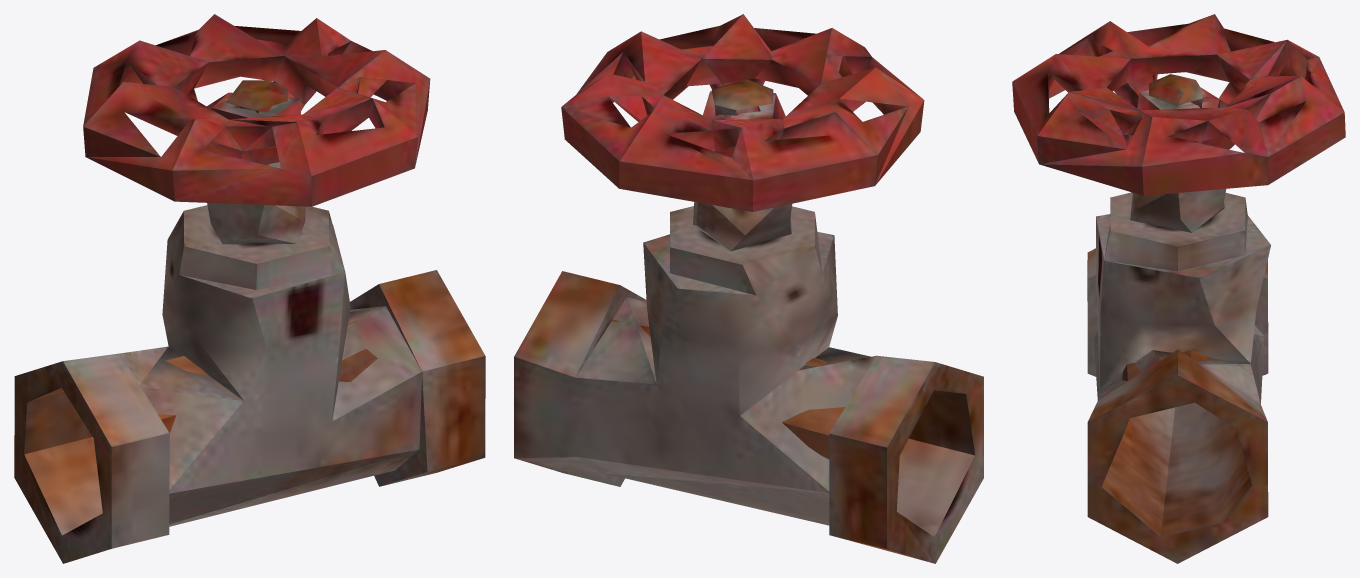
The model's file is small_steel_pipe_25.glb.
The picture shows the model from 3 angles, left to right: view 1: azimuth 30°, elevation 25°; view 2: azimuth 150°, elevation 25°; view 3: azimuth 270°, elevation 25°; orthographic projection. The views are drawn at different scales.
Parts seen in each view (by area): view 1: small_steel_pipe_25; view 2: small_steel_pipe_25; view 3: small_steel_pipe_25.
Boxes of the visible parts, left/top/right/bottom form: small_steel_pipe_25: left=14, top=14, right=485, bottom=563; small_steel_pipe_25: left=514, top=14, right=983, bottom=563; small_steel_pipe_25: left=1012, top=14, right=1345, bottom=563.
Size of what is drawn, in the model's own units: 0.0505 by 0.0579 by 0.0419.
Materials: 1 (1 with a texture image).
